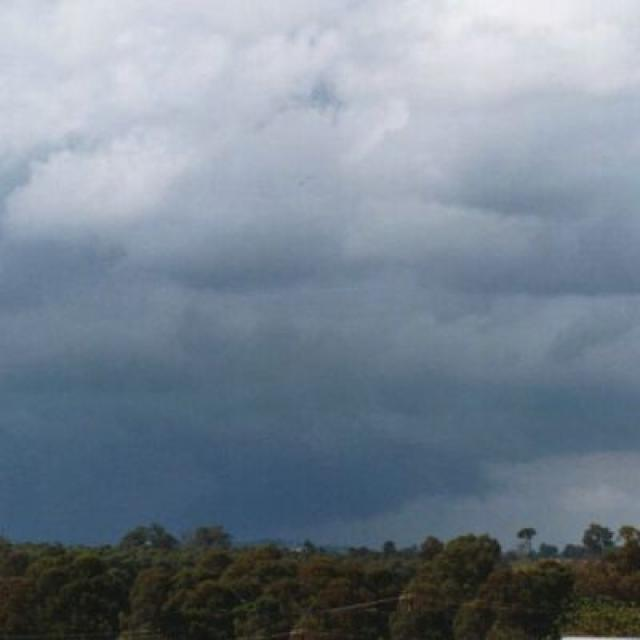St: (1, 40, 640, 438)
